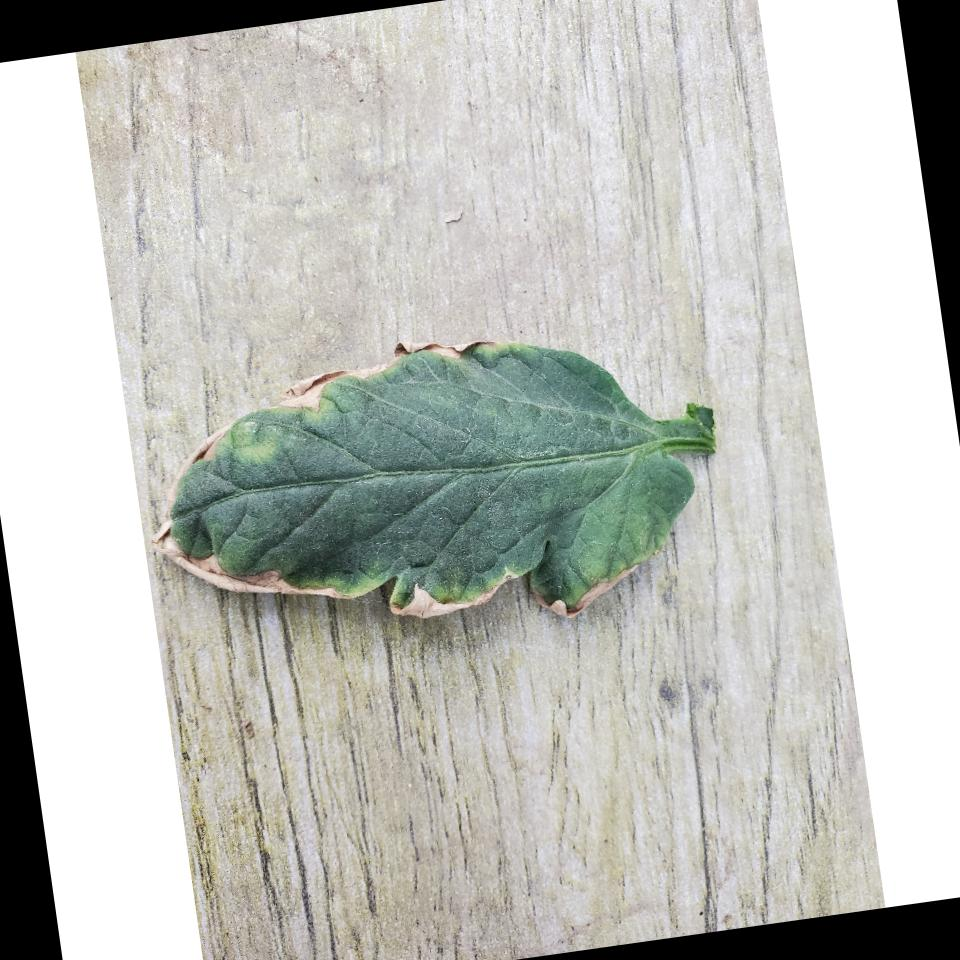tomato_bacterial_blight: (130, 294, 742, 674)
